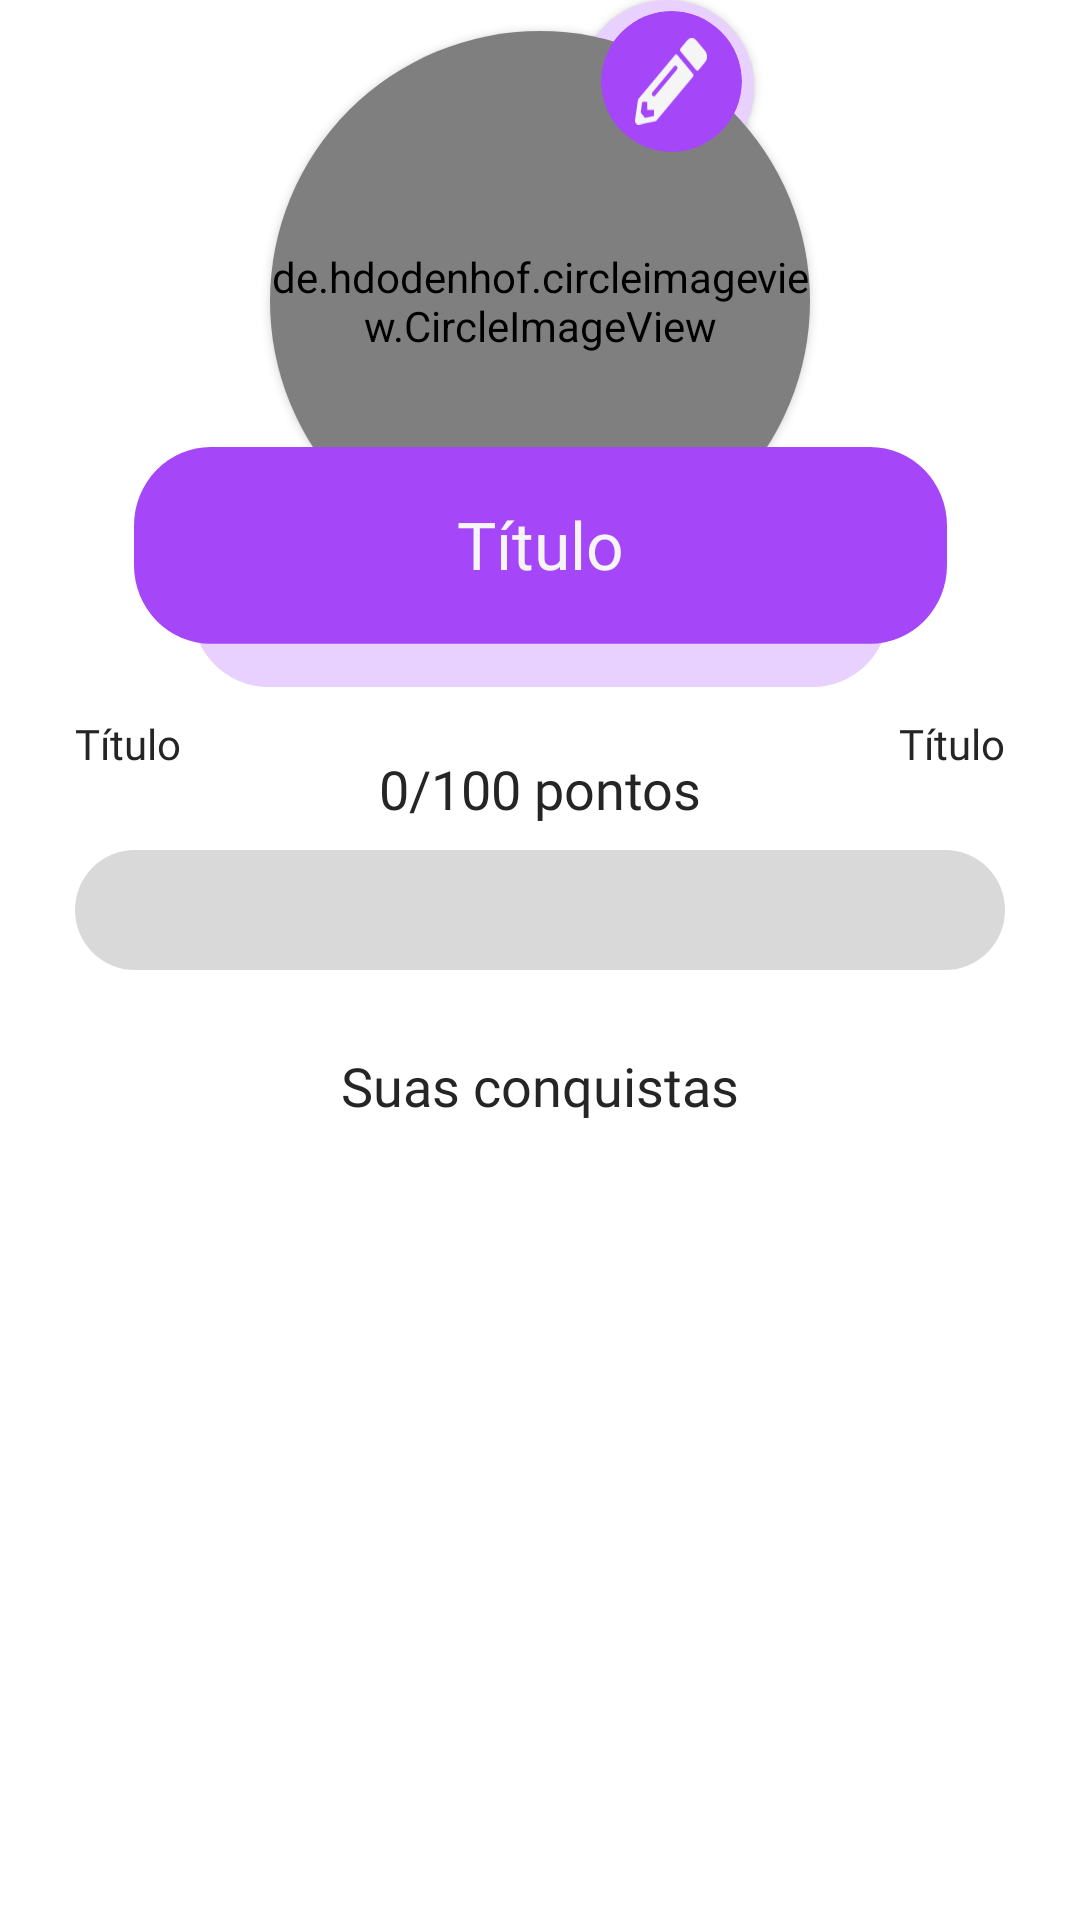

Named icons in this screenshot (1080px×1920px) and their centers, (x=x, y=y):
pencil: (x=671, y=81)
